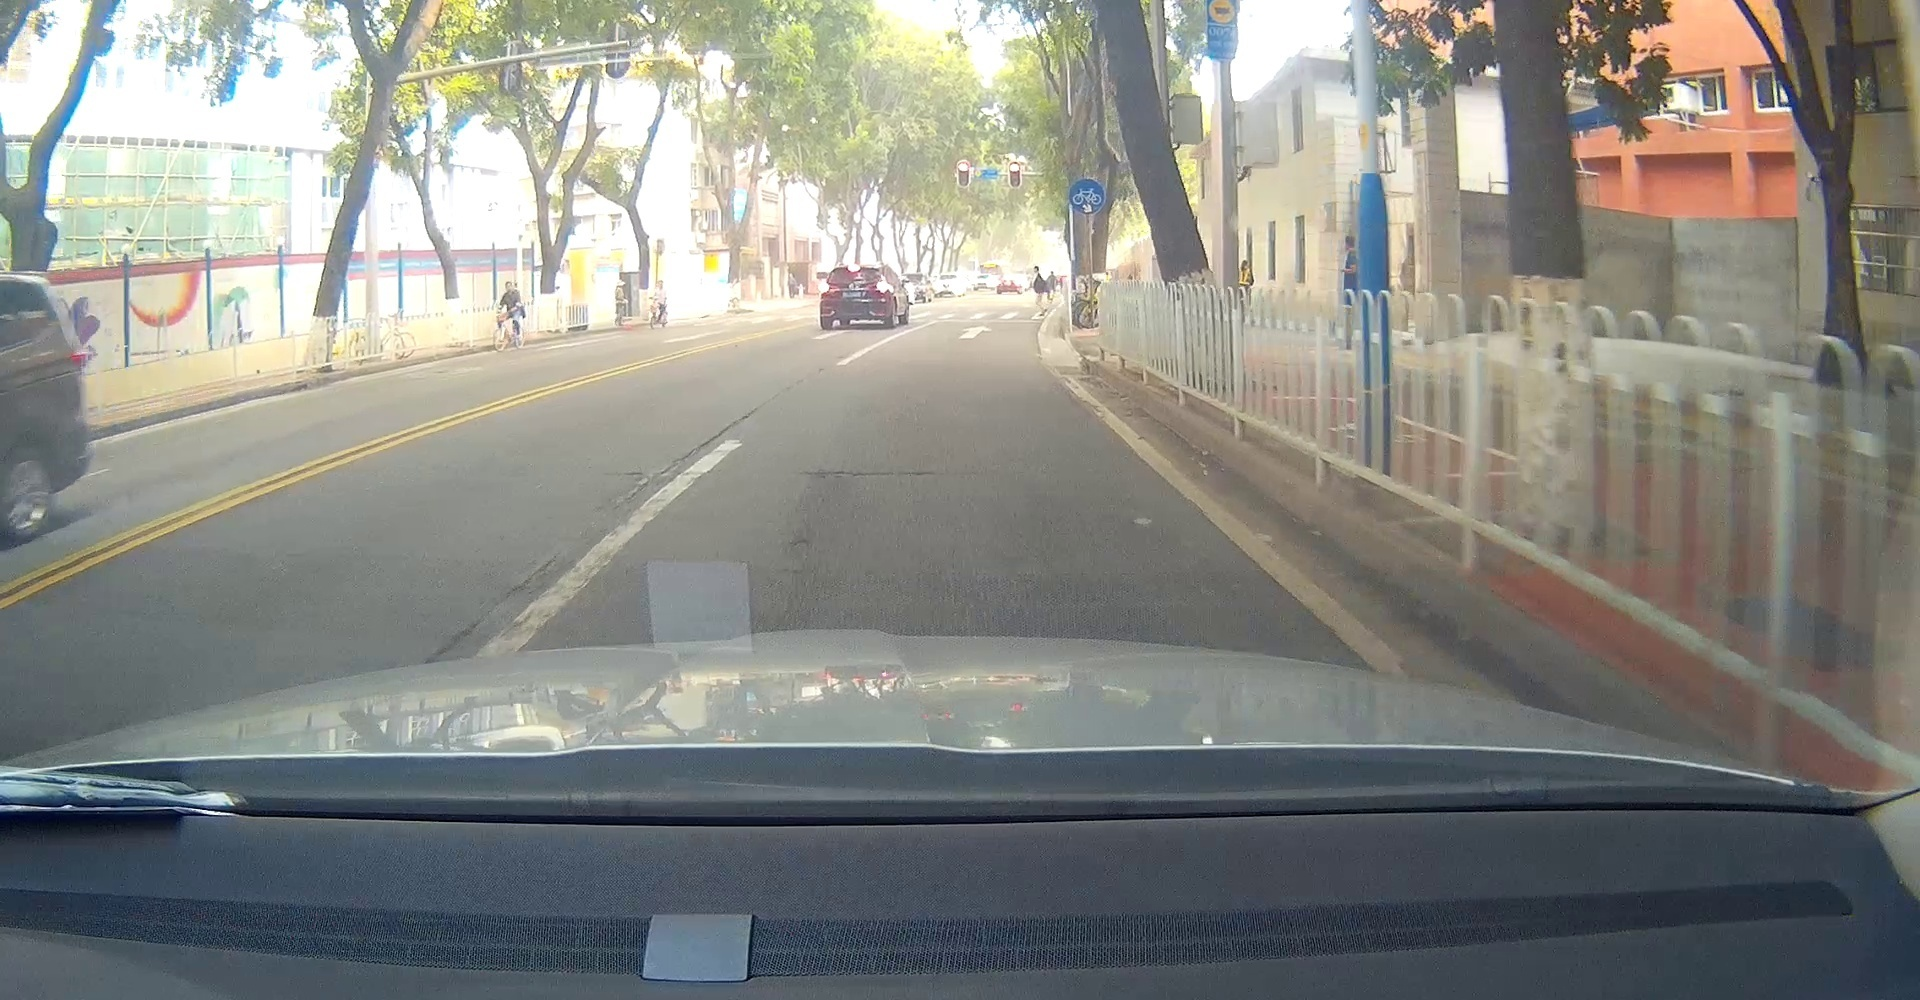L_light: (819, 283, 841, 296)
R_light: (869, 282, 889, 293)
T_light: (847, 266, 861, 273)
night-brake: (818, 266, 891, 329)
